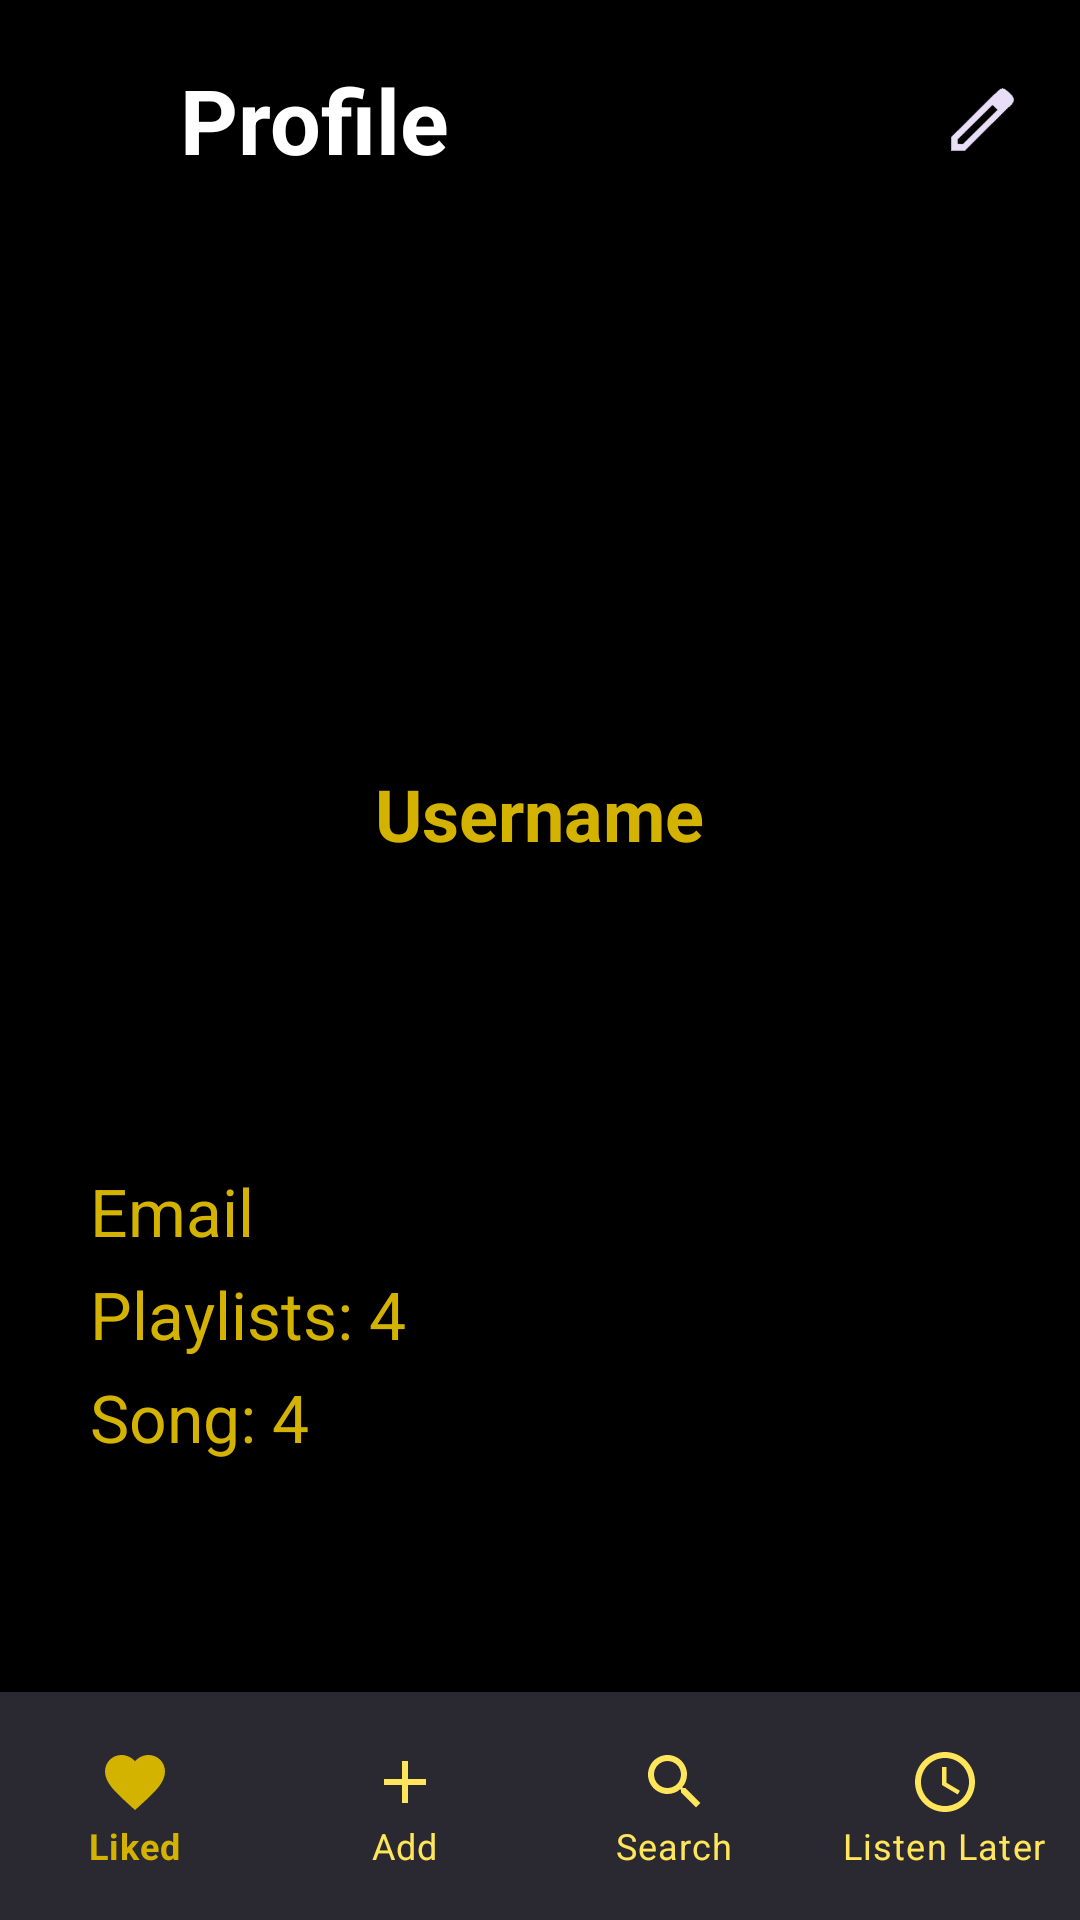

Icons on this 1080 x 1920 Android screen, each with its box as (x1, y1, x2, y2):
Edit Profile: (951, 88, 1014, 151)
